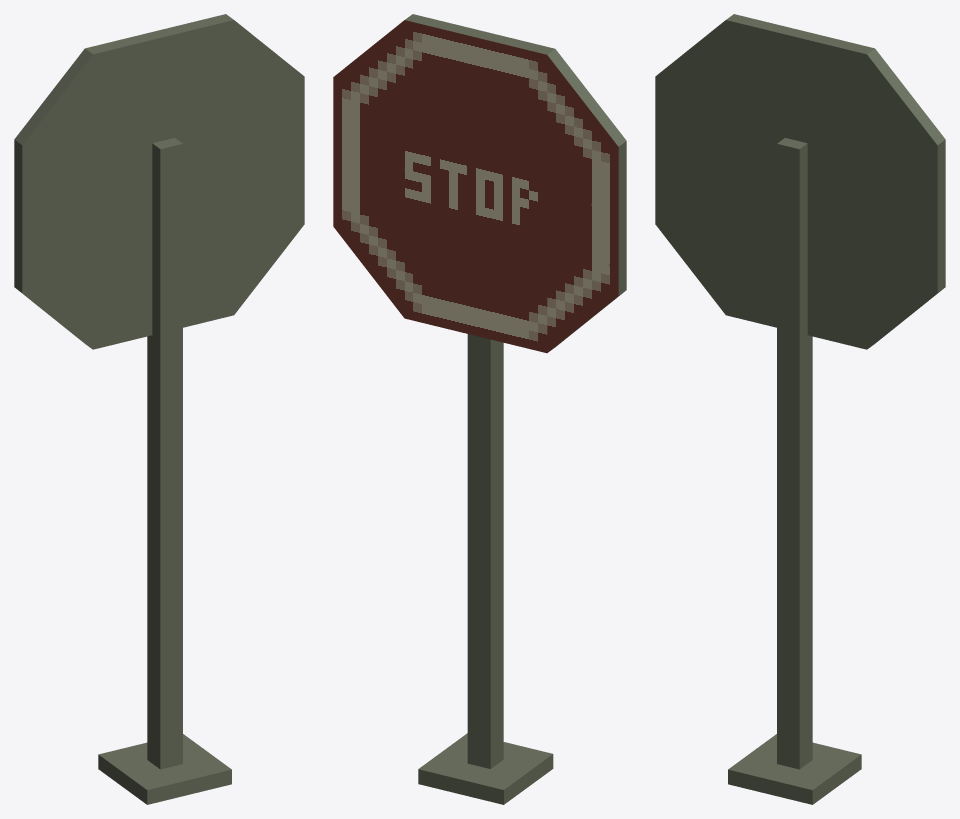
Rendered from stop_sign.gltf.
3 views of the same model, side by side, from view 1: azimuth 30°, elevation 25°; view 2: azimuth 150°, elevation 25°; view 3: azimuth 330°, elevation 25° (orthographic).
Parts seen in each view (by area): view 1: octagonal_stop_plate, post, foot; view 2: octagonal_stop_plate, post, foot; view 3: octagonal_stop_plate, post, foot.
Boxes of the visible parts, x1=… form: octagonal_stop_plate: x1=14, y1=14, x2=304, y2=349; post: x1=147, y1=138, x2=182, y2=769; foot: x1=98, y1=734, x2=231, y2=804; octagonal_stop_plate: x1=333, y1=14, x2=626, y2=353; post: x1=467, y1=334, x2=503, y2=768; foot: x1=418, y1=733, x2=553, y2=804; octagonal_stop_plate: x1=655, y1=14, x2=945, y2=349; post: x1=777, y1=138, x2=812, y2=769; foot: x1=728, y1=734, x2=861, y2=804.
Bounding box in the file's own units: 1.25 × 3.12 × 0.375.
2 materials, 2 textured.
